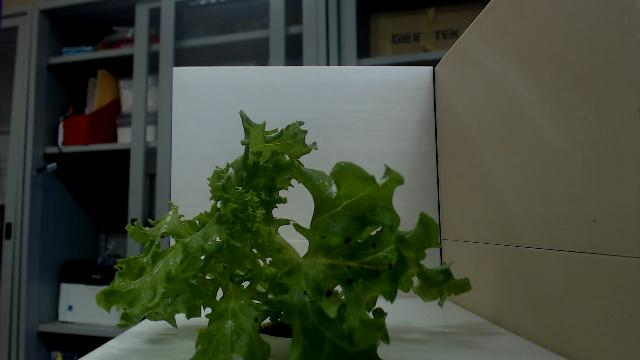Harvest Stage: (94, 108, 474, 360)
